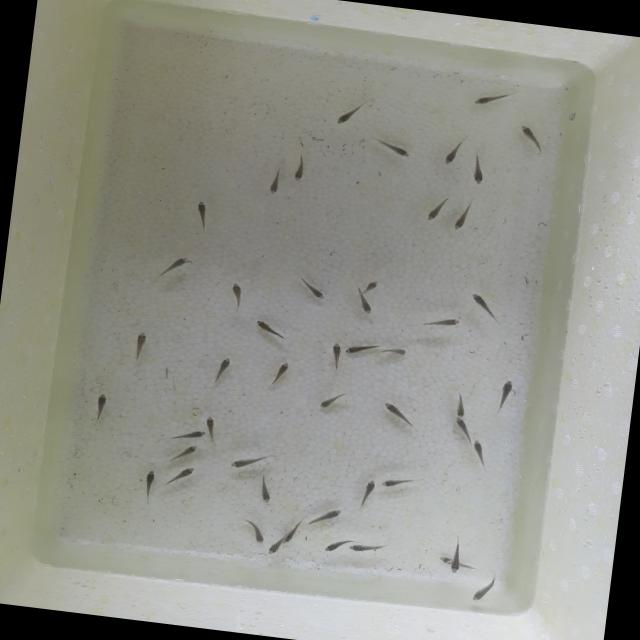fingerling: (378, 401, 426, 434), (329, 95, 368, 132), (466, 290, 503, 323), (470, 569, 502, 605), (472, 84, 516, 110), (228, 449, 270, 473), (515, 123, 545, 156), (438, 134, 467, 168), (451, 194, 476, 233), (372, 136, 412, 159), (466, 147, 489, 187), (424, 193, 452, 225), (418, 313, 462, 332), (166, 424, 207, 444), (158, 251, 192, 275), (343, 338, 382, 358), (265, 162, 286, 198), (318, 388, 348, 413), (253, 318, 287, 340), (310, 505, 342, 528), (288, 152, 310, 185), (192, 200, 212, 236), (356, 476, 376, 512), (446, 536, 464, 576), (492, 378, 513, 412), (130, 329, 150, 362), (225, 281, 246, 312), (449, 416, 474, 442), (254, 472, 274, 504), (244, 519, 268, 545), (379, 474, 417, 490), (168, 463, 196, 484), (93, 391, 111, 423), (354, 292, 376, 318), (266, 528, 285, 558), (453, 384, 469, 419), (170, 442, 198, 462), (346, 542, 386, 556), (303, 280, 329, 300), (272, 358, 292, 384), (213, 354, 233, 380), (326, 338, 344, 366), (141, 468, 157, 498), (320, 536, 344, 555), (469, 437, 486, 463), (382, 342, 409, 358), (203, 412, 220, 435), (362, 278, 381, 294), (436, 554, 451, 566)
